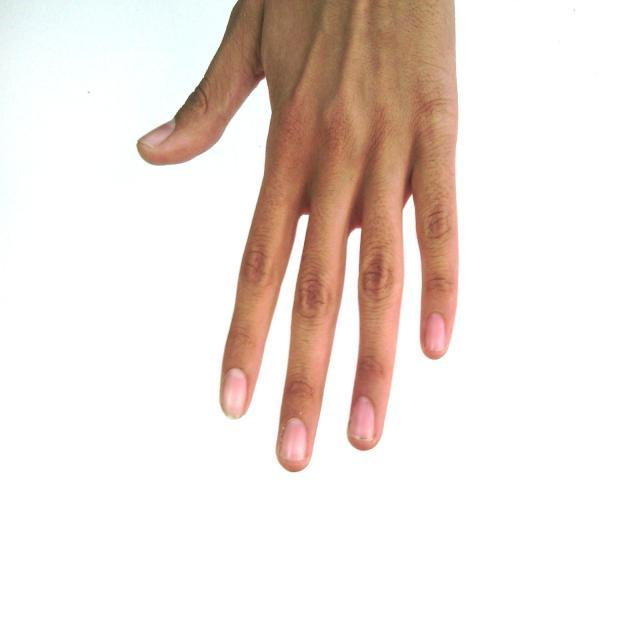Fingernail: (221, 367, 248, 418), (280, 416, 307, 461), (137, 118, 176, 148), (350, 396, 374, 440), (424, 312, 445, 351)
